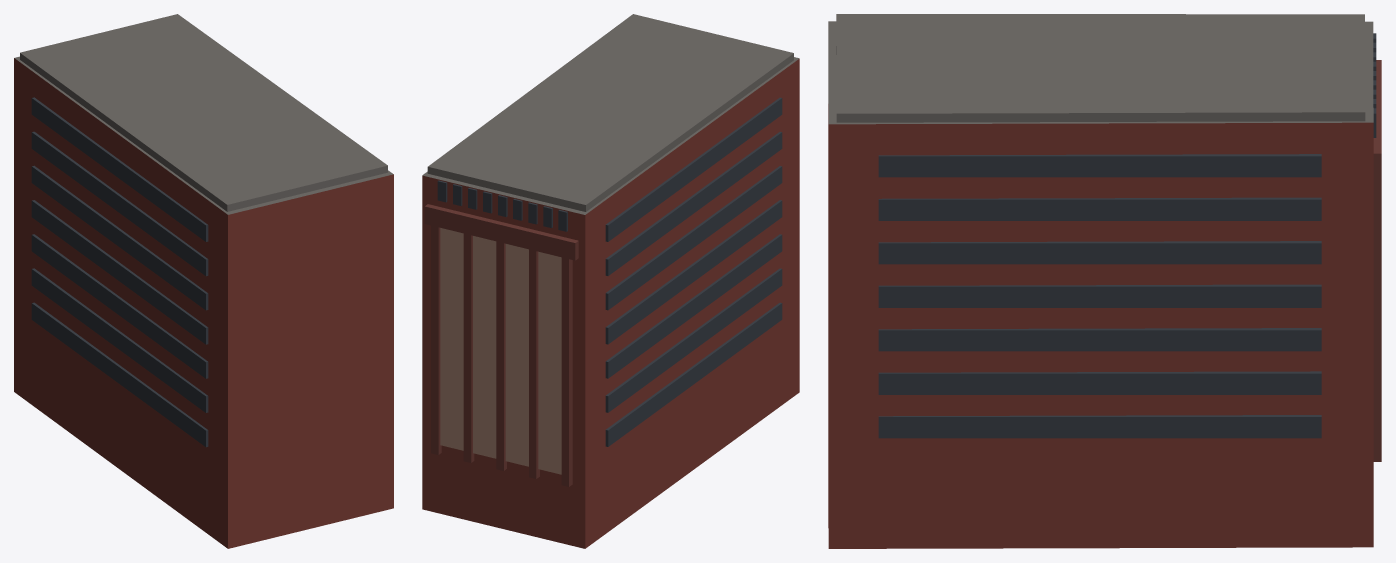
The model's file is deseret_book.glb.
3 views of the same model, side by side, from view 1: azimuth 30°, elevation 25°; view 2: azimuth 150°, elevation 25°; view 3: azimuth 270°, elevation 25° (orthographic). The views are drawn at different scales.
Visible parts, largest first — view 1: Deseret_Book; view 2: Deseret_Book; view 3: Deseret_Book.
Boxes of the visible parts, x1=… form: Deseret_Book: x1=14, y1=14, x2=393, y2=548; Deseret_Book: x1=422, y1=14, x2=799, y2=548; Deseret_Book: x1=828, y1=14, x2=1381, y2=548.
Size of the model in its own units: 20.22 by 38.9 by 45.01.
